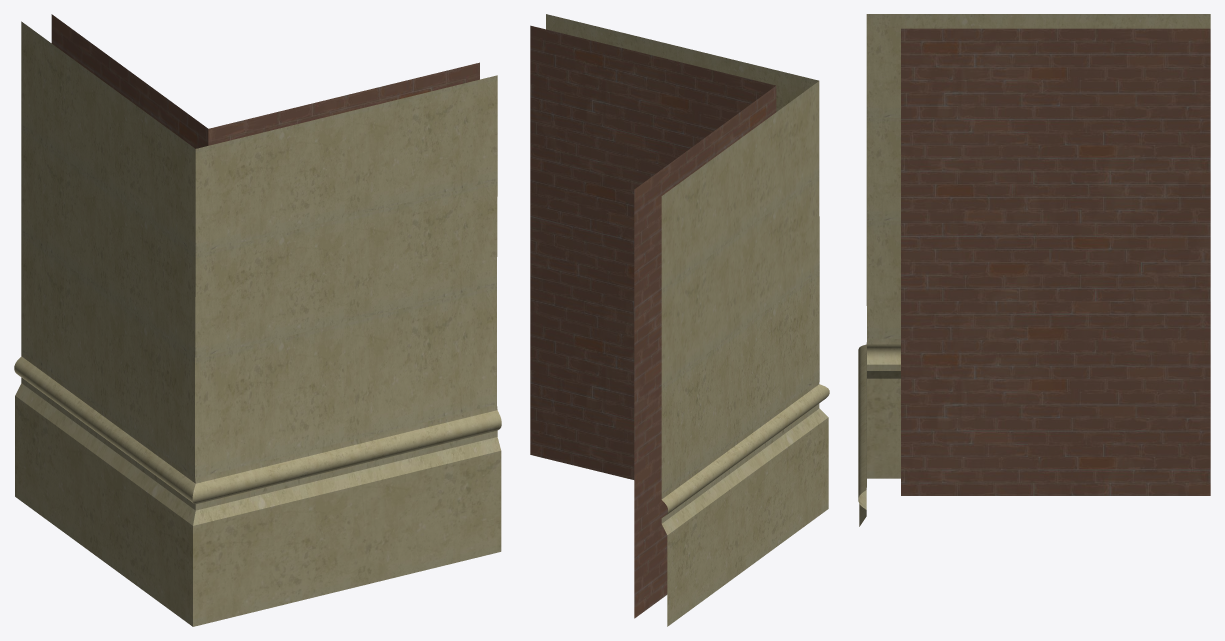
File: Trim_Corner.gltf
The picture shows the model from 3 angles, left to right: view 1: azimuth 30°, elevation 25°; view 2: azimuth 150°, elevation 25°; view 3: azimuth 270°, elevation 25°; orthographic projection. The views are drawn at different scales.
Parts seen in each view (by area): view 1: Trim_Corner; view 2: Trim_Corner; view 3: Trim_Corner.
Part boxes in pixels (box(x1,y1,x2,y2)): Trim_Corner: box(14, 14, 501, 626); Trim_Corner: box(530, 14, 829, 626); Trim_Corner: box(858, 14, 1210, 526).
Bounding box in the file's own units: 2.05 × 3 × 2.05.
Materials: 2 (2 with a texture image).
